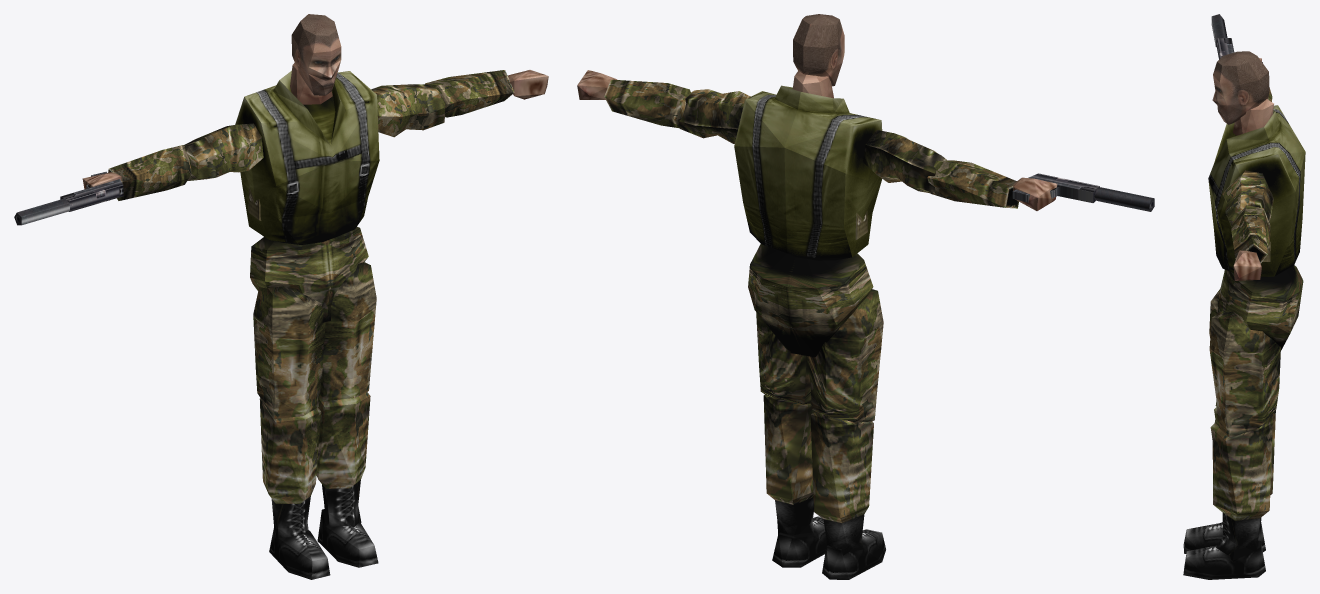
Rendered from basemod.obj.
The picture shows the model from 3 angles, left to right: view 1: azimuth 30°, elevation 25°; view 2: azimuth 150°, elevation 25°; view 3: azimuth 270°, elevation 25°; orthographic projection. The views are drawn at different scales.
Parts seen in each view (by area): view 1: Mesh.011_Chest, Mesh.017_R_Thigh, Mesh.002_R_Leg_lowe, Mesh.003_L_Thigh, Mesh.004_Waist, Mesh.013_L_Leg_lowe, Mesh.016_R_Arm_uppe, Mesh.001_Head, Mesh.014_L_Arm_uppe, Mesh.010_R_arm_lowe, Mesh.018_L_arm_lowe, Mesh.006_R_Foot (+4 smaller); view 2: Mesh.011_Chest, Mesh.004_Waist, Mesh.002_R_Leg_lowe, Mesh.017_R_Thigh, Mesh.013_L_Leg_lowe, Mesh.016_R_Arm_uppe, Mesh.010_R_arm_lowe, Mesh.018_L_arm_lowe, Mesh.003_L_Thigh, Mesh.001_Head, Mesh.014_L_Arm_uppe, Mesh.007_Gun (+5 smaller); view 3: Mesh.011_Chest, Mesh.003_L_Thigh, Mesh.013_L_Leg_lowe, Mesh.004_Waist, Mesh.001_Head, Mesh.005_L_Foot, Mesh.014_L_Arm_uppe, Mesh.018_L_arm_lowe, Mesh.006_R_Foot, Mesh.012_Neck, Mesh.008_L_Hand, Mesh.007_Gun (+2 smaller).
Boxes of the visible parts, x1=… form: Mesh.011_Chest: x1=235, y1=70, x2=379, y2=244; Mesh.017_R_Thigh: x1=253, y1=286, x2=325, y2=418; Mesh.002_R_Leg_lowe: x1=259, y1=398, x2=321, y2=546; Mesh.003_L_Thigh: x1=320, y1=262, x2=376, y2=401; Mesh.004_Waist: x1=250, y1=227, x2=368, y2=322; Mesh.013_L_Leg_lowe: x1=316, y1=392, x2=370, y2=526; Mesh.016_R_Arm_uppe: x1=184, y1=123, x2=263, y2=180; Mesh.001_Head: x1=291, y1=14, x2=341, y2=95; Mesh.014_L_Arm_uppe: x1=371, y1=84, x2=445, y2=137; Mesh.010_R_arm_lowe: x1=108, y1=145, x2=191, y2=200; Mesh.018_L_arm_lowe: x1=425, y1=70, x2=514, y2=117; Mesh.006_R_Foot: x1=269, y1=528, x2=330, y2=579; Mesh.011_Chest: x1=734, y1=85, x2=882, y2=260; Mesh.004_Waist: x1=748, y1=244, x2=873, y2=357; Mesh.002_R_Leg_lowe: x1=810, y1=412, x2=873, y2=556; Mesh.017_R_Thigh: x1=806, y1=289, x2=883, y2=422; Mesh.013_L_Leg_lowe: x1=763, y1=395, x2=815, y2=534; Mesh.016_R_Arm_uppe: x1=863, y1=130, x2=946, y2=193; Mesh.010_R_arm_lowe: x1=927, y1=160, x2=1018, y2=208; Mesh.018_L_arm_lowe: x1=604, y1=79, x2=691, y2=128; Mesh.003_L_Thigh: x1=756, y1=312, x2=811, y2=404; Mesh.001_Head: x1=793, y1=14, x2=844, y2=86; Mesh.014_L_Arm_uppe: x1=679, y1=89, x2=750, y2=143; Mesh.007_Gun: x1=1012, y1=173, x2=1154, y2=211; Mesh.011_Chest: x1=1208, y1=105, x2=1305, y2=277; Mesh.003_L_Thigh: x1=1209, y1=310, x2=1280, y2=437; Mesh.013_L_Leg_lowe: x1=1210, y1=414, x2=1272, y2=561; Mesh.004_Waist: x1=1217, y1=265, x2=1303, y2=350; Mesh.001_Head: x1=1212, y1=51, x2=1269, y2=124; Mesh.005_L_Foot: x1=1183, y1=540, x2=1265, y2=579; Mesh.014_L_Arm_uppe: x1=1222, y1=170, x2=1273, y2=226; Mesh.018_L_arm_lowe: x1=1231, y1=205, x2=1270, y2=263; Mesh.006_R_Foot: x1=1183, y1=522, x2=1265, y2=553; Mesh.012_Neck: x1=1233, y1=99, x2=1273, y2=135; Mesh.008_L_Hand: x1=1233, y1=250, x2=1261, y2=280; Mesh.007_Gun: x1=1211, y1=14, x2=1262, y2=62.
Size of the model in its own units: 5.4 by 5.08 by 1.11.
